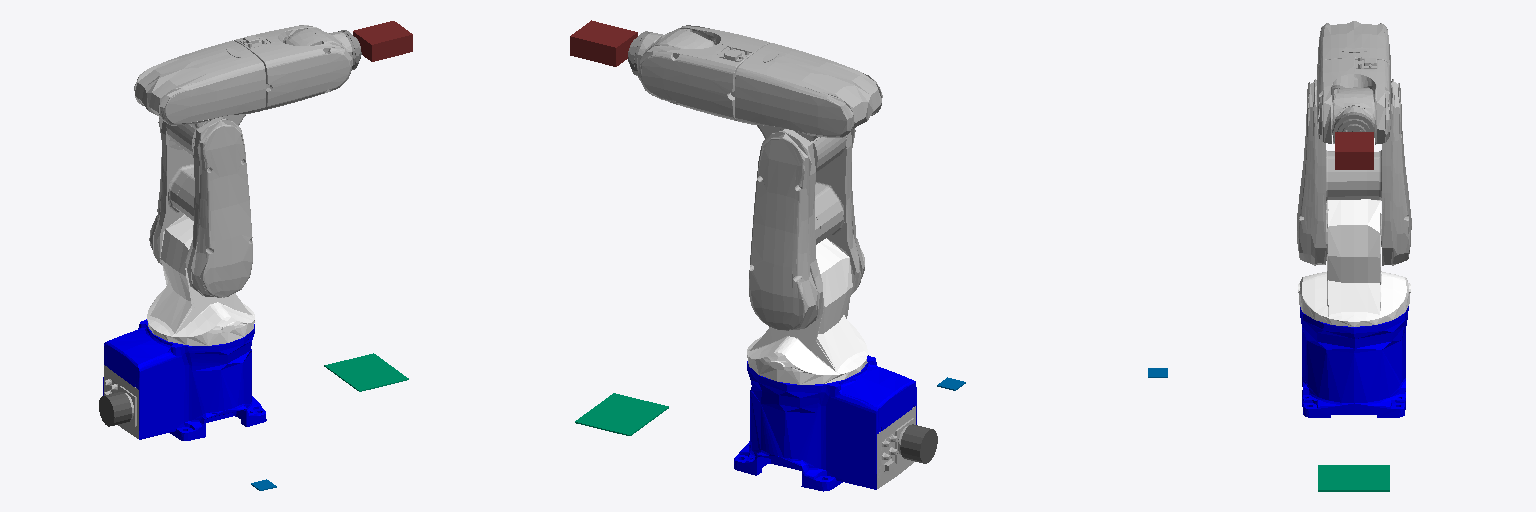
The robot description file, URDF, robot "vs6242":
<?xml version="1.0" encoding="UTF-8"?>
<robot name="vs6242">
	<gazebo>
		<plugin name="gazebo_ros_control" filename="libgazebo_ros_control.so">
			<robotNamespace>/vs6242</robotNamespace>
		</plugin>
	</gazebo>
	<link name="world"/>
	<joint name="joint_w" type="fixed">
		<parent link="world"/>
		<child link="base_link"/>
	</joint>
	<link name="base_link">
		<visual>
			<origin rpy="0 0 0" xyz="0 0 0"/>
			<geometry>
				<mesh filename="package://denso_robot_descriptions/vs6242_description/base_link.dae" scale="1 1 1"/>
			</geometry>
		</visual>
		<collision>
			<origin rpy="0 0 0" xyz="0 0 0"/>
			<geometry>
				<mesh filename="package://denso_robot_descriptions/vs6242_description/base_link.dae" scale="1 1 1"/>
			</geometry>
		</collision>
		<inertial>
			<mass value="1"/>
			<origin rpy="0.000000 0.000000 0.000000" xyz="0.000000 0.000000 0.000000"/>
			<inertia ixx="1" ixy="0" ixz="0" iyy="1" iyz="0" izz="1"/>
		</inertial>
	</link>
	<link name="J1">
		<visual>
			<origin rpy="0 0 0" xyz="0 0 0"/>
			<geometry>
				<mesh filename="package://denso_robot_descriptions/vs6242_description/J1.dae" scale="1 1 1"/>
			</geometry>
		</visual>
		<collision>
			<origin rpy="0 0 0" xyz="0 0 0"/>
			<geometry>
				<mesh filename="package://denso_robot_descriptions/vs6242_description/J1.dae" scale="1 1 1"/>
			</geometry>
		</collision>
		<inertial>
			<mass value="1"/>
			<origin rpy="0.000000 0.000000 0.000000" xyz="0.000000 0.000000 0.000000"/>
			<inertia ixx="1" ixy="0" ixz="0" iyy="1" iyz="0" izz="1"/>
		</inertial>
	</link>
	<joint name="joint_1" type="revolute">
		<parent link="base_link"/>
		<child link="J1"/>
		<origin rpy="0.000000 0.000000 0.000000" xyz="0.000000 0.000000 0.000000"/>
		<axis xyz="-0.000000 -0.000000 1.000000"/>
		<limit effort="1" lower="-2.792527" upper="2.792527" velocity="1"/>
		<dynamics damping="0" friction="0"/>
	</joint>
	<transmission name="trans_1">
		<type>transmission_interface/SimpleTransmission</type>
		<joint name="joint_1">
			<hardwareInterface>PositionJointInterface</hardwareInterface>
		</joint>
		<actuator name="motor_1">
			<hardwareInterface>PositionJointInterface</hardwareInterface>
			<mechanicalReduction>1</mechanicalReduction>
		</actuator>
	</transmission>
	<link name="J2">
		<visual>
			<origin rpy="0 0 0" xyz="0 0 0"/>
			<geometry>
				<mesh filename="package://denso_robot_descriptions/vs6242_description/J2.dae" scale="1 1 1"/>
			</geometry>
		</visual>
		<collision>
			<origin rpy="0 0 0" xyz="0 0 0"/>
			<geometry>
				<mesh filename="package://denso_robot_descriptions/vs6242_description/J2.dae" scale="1 1 1"/>
			</geometry>
		</collision>
		<inertial>
			<mass value="1"/>
			<origin rpy="0.000000 0.000000 0.000000" xyz="0.000000 0.000000 0.000000"/>
			<inertia ixx="1" ixy="0" ixz="0" iyy="1" iyz="0" izz="1"/>
		</inertial>
	</link>
	<joint name="joint_2" type="revolute">
		<parent link="J1"/>
		<child link="J2"/>
		<origin rpy="0.000000 0.000000 0.000000" xyz="0.000000 0.000000 0.280000"/>
		<axis xyz="-0.000000 1.000000 -0.000000"/>
		<limit effort="1" lower="-2.094395" upper="2.094395" velocity="1"/>
		<dynamics damping="0" friction="0"/>
	</joint>
	<transmission name="trans_2">
		<type>transmission_interface/SimpleTransmission</type>
		<joint name="joint_2">
			<hardwareInterface>PositionJointInterface</hardwareInterface>
		</joint>
		<actuator name="motor_2">
			<hardwareInterface>PositionJointInterface</hardwareInterface>
			<mechanicalReduction>1</mechanicalReduction>
		</actuator>
	</transmission>
	<link name="J3">
		<visual>
			<origin rpy="0 0 0" xyz="0 0 0"/>
			<geometry>
				<mesh filename="package://denso_robot_descriptions/vs6242_description/J3.dae" scale="1 1 1"/>
			</geometry>
		</visual>
		<collision>
			<origin rpy="0 0 0" xyz="0 0 0"/>
			<geometry>
				<mesh filename="package://denso_robot_descriptions/vs6242_description/J3.dae" scale="1 1 1"/>
			</geometry>
		</collision>
		<inertial>
			<mass value="1"/>
			<origin rpy="0.000000 0.000000 0.000000" xyz="0.000000 0.000000 0.000000"/>
			<inertia ixx="1" ixy="0" ixz="0" iyy="1" iyz="0" izz="1"/>
		</inertial>
	</link>
	<joint name="joint_3" type="revolute">
		<parent link="J2"/>
		<child link="J3"/>
		<origin rpy="0.000000 0.000000 0.000000" xyz="0.000000 0.000000 0.210000"/>
		<axis xyz="-0.000000 1.000000 -0.000000"/>
		<limit effort="1" lower="0.3316126" upper="2.792527" velocity="1"/>
		<dynamics damping="0" friction="0"/>
	</joint>
	<transmission name="trans_3">
		<type>transmission_interface/SimpleTransmission</type>
		<joint name="joint_3">
			<hardwareInterface>PositionJointInterface</hardwareInterface>
		</joint>
		<actuator name="motor_3">
			<hardwareInterface>PositionJointInterface</hardwareInterface>
			<mechanicalReduction>1</mechanicalReduction>
		</actuator>
	</transmission>
	<link name="J4">
		<visual>
			<origin rpy="0 0 0" xyz="0 0 0"/>
			<geometry>
				<mesh filename="package://denso_robot_descriptions/vs6242_description/J4.dae" scale="1 1 1"/>
			</geometry>
		</visual>
		<collision>
			<origin rpy="0 0 0" xyz="0 0 0"/>
			<geometry>
				<mesh filename="package://denso_robot_descriptions/vs6242_description/J4.dae" scale="1 1 1"/>
			</geometry>
		</collision>
		<inertial>
			<mass value="1"/>
			<origin rpy="0.000000 0.000000 0.000000" xyz="0.000000 0.000000 0.000000"/>
			<inertia ixx="1" ixy="0" ixz="0" iyy="1" iyz="0" izz="1"/>
		</inertial>
	</link>
	<joint name="joint_4" type="revolute">
		<parent link="J3"/>
		<child link="J4"/>
		<origin rpy="0.000000 0.000000 0.000000" xyz="-0.075000 0.000000 -0.490000"/>
		<axis xyz="-0.000000 -0.000000 1.000000"/>
		<limit effort="1" lower="-2.792527" upper="2.792527" velocity="1"/>
		<dynamics damping="0" friction="0"/>
	</joint>
	<transmission name="trans_4">
		<type>transmission_interface/SimpleTransmission</type>
		<joint name="joint_4">
			<hardwareInterface>PositionJointInterface</hardwareInterface>
		</joint>
		<actuator name="motor_4">
			<hardwareInterface>PositionJointInterface</hardwareInterface>
			<mechanicalReduction>1</mechanicalReduction>
		</actuator>
	</transmission>
	<link name="J5">
		<visual>
			<origin rpy="0 0 0" xyz="0 0 0"/>
			<geometry>
				<mesh filename="package://denso_robot_descriptions/vs6242_description/J5.dae" scale="1 1 1"/>
			</geometry>
		</visual>
		<collision>
			<origin rpy="0 0 0" xyz="0 0 0"/>
			<geometry>
				<mesh filename="package://denso_robot_descriptions/vs6242_description/J5.dae" scale="1 1 1"/>
			</geometry>
		</collision>
		<inertial>
			<mass value="1"/>
			<origin rpy="0.000000 0.000000 0.000000" xyz="0.000000 0.000000 0.000000"/>
			<inertia ixx="1" ixy="0" ixz="0" iyy="1" iyz="0" izz="1"/>
		</inertial>
	</link>
	<joint name="joint_5" type="revolute">
		<parent link="J4"/>
		<child link="J5"/>
		<origin rpy="0.000000 0.000000 0.000000" xyz="0.000000 0.000000 0.700000"/>
		<axis xyz="-0.000000 1.000000 -0.000000"/>
		<limit effort="1" lower="-2.094395" upper="2.094395" velocity="1"/>
		<dynamics damping="0" friction="0"/>
	</joint>
	<transmission name="trans_5">
		<type>transmission_interface/SimpleTransmission</type>
		<joint name="joint_5">
			<hardwareInterface>PositionJointInterface</hardwareInterface>
		</joint>
		<actuator name="motor_5">
			<hardwareInterface>PositionJointInterface</hardwareInterface>
			<mechanicalReduction>1</mechanicalReduction>
		</actuator>
	</transmission>
	<link name="J6">
		<visual>
			<origin rpy="0 0 0" xyz="0 0 0"/>
			<geometry>
				<mesh filename="package://denso_robot_descriptions/vs6242_description/J6.dae" scale="1 1 1"/>
			</geometry>
		</visual>
		<collision>
			<origin rpy="0 0 0" xyz="0 0 0"/>
			<geometry>
				<mesh filename="package://denso_robot_descriptions/vs6242_description/J6.dae" scale="1 1 1"/>
			</geometry>
		</collision>
		<inertial>
			<mass value="1"/>
			<origin rpy="0.000000 0.000000 0.000000" xyz="0.000000 0.000000 0.000000"/>
			<inertia ixx="1" ixy="0" ixz="0" iyy="1" iyz="0" izz="1"/>
		</inertial>
	</link>
	<joint name="joint_6" type="revolute">
		<parent link="J5"/>
		<child link="J6"/>
		<origin rpy="0.000000 0.000000 0.000000" xyz="0.000000 0.000000 0.070000"/>
		<axis xyz="-0.000000 -0.000000 1.000000"/>
		<limit effort="1" lower="-6.283185" upper="6.283185" velocity="1"/>
		<dynamics damping="0" friction="0"/>
	</joint>
	<transmission name="trans_6">
		<type>transmission_interface/SimpleTransmission</type>
		<joint name="joint_6">
			<hardwareInterface>PositionJointInterface</hardwareInterface>
		</joint>
		<actuator name="motor_6">
			<hardwareInterface>PositionJointInterface</hardwareInterface>
			<mechanicalReduction>1</mechanicalReduction>
		</actuator>
	</transmission>

	<!-- camera_link -->
	<link name="camera_link">
		<visual>
			<origin xyz="0 0 0" rpy="0 0 0"/>
			<geometry>
				<box size="0.075 0.060 0.030"/>
			</geometry>
			<material name="gray">
            	<color rgba="0.5 0.2 0.2 1.0"/>
        	</material>
		</visual>

		<collision>
			<origin xyz="0 0 0" rpy="0 0 0"/>
			<geometry>
				<box size="0.075 0.060 0.030"/>
			</geometry>
		</collision>

		<inertial>
			<mass value="1e-5" />
			<origin xyz="0 0 0" rpy="0 0 0"/>
			<inertia ixx="1e-6" ixy="0" ixz="0" iyy="1e-6" iyz="0" izz="1e-6" />
		</inertial>
	</link>

	<joint name="camera_joint" type="fixed">
		<axis xyz="1 0 0" />
		<origin xyz="0 0 0.05" rpy="0 -1.5707963 0"/>
		<!-- <origin xyz="0 0 0.05" rpy="-1.5707963 0 -1.5707963"/> -->
		<parent link="J6"/>
		<child link="camera_link"/>
	</joint>

	<!-- generate an optical frame http://www.ros.org/reps/rep-0103.html#suffix-frames
      so that ros and opencv can operate on the camera frame correctly -->
	<joint name="camera_optical_joint" type="fixed">
		<!-- these values have to be these values otherwise the gazebo camera image
			won't be aligned properly with the frame it is supposedly originating from -->
		<origin xyz="0 0 0" rpy="-1.5707963 0 -1.5707963"/>
		<!-- <origin xyz="0 0 0" rpy="0 0 0"/> -->
		<parent link="camera_link"/>
		<child link="camera_link_optical"/>
	</joint>

	<link name="camera_link_optical">
	</link>

    <gazebo reference="camera_link">
      <sensor type="camera" name="basler">
		<always_on>1</always_on>
        <update_rate>30.0</update_rate>
		<visualize>true</visualize>
        <camera>
          	<horizontal_fov>0.70288959</horizontal_fov>
			<image>
				<width>2592</width>
				<height>1944</height>
				<format>R8G8B8</format>
			</image>
			<save enabled="false">
				<path>/tmp/camera_save_tutorial</path>
			</save>
          	<clip>
				<near>0.001</near>
				<far>10</far>
          	</clip>
			<noise>
				<type>gaussian</type>
				<!-- Noise is sampled independently per pixel on each frame.
					That pixel's noise value is added to each of its color
					channels, which at that point lie in the range [0,1]. -->
				<mean>0.0</mean>
				<stddev>0.007</stddev>
        	</noise>
        </camera>

        <plugin name="camera_camera_controller" filename="libgazebo_ros_camera.so">
			<alwaysOn>true</alwaysOn>
			<updateRate>30.0</updateRate>
			<cameraName>/camera</cameraName>
			<imageTopicName>image_raw</imageTopicName>
			<cameraInfoTopicName>camera_info</cameraInfoTopicName>
			<frameName>camera_link</frameName>
			<hackBaseline>0.0</hackBaseline>
			<distortionK1>0.0</distortionK1>
			<distortionK2>0.0</distortionK2>
			<distortionK3>0.0</distortionK3>
			<distortionT1>0.0</distortionT1>
			<distortionT2>0.0</distortionT2>
			<CxPrime>1296</CxPrime>
			<Cx>1296</Cx>
			<Cy>972</Cy>
			<focalLength>0.3</focalLength>
        </plugin>
      </sensor>
    </gazebo>

	<!-- Pattern -->
	<link name="pattern">
		<visual>
			<origin rpy="0 0 0" xyz="0 0 0" />
			<geometry>
				<mesh filename="package://denso_robot_descriptions/vs6242_description/pattern.dae" scale="1 1 1" />
			</geometry>
		</visual>
		<collision>
			<origin rpy="0 0 0" xyz="0 0 0" />
			<geometry>
				<box size="0.22 0.18 0.002"/> 
			</geometry>
		</collision>
		<inertial>
			<mass value="1" />
			<origin rpy="0.000000 0.000000 0.000000" xyz="0.000000 0.000000 0.000000" />
			<inertia ixx="1" ixy="0" ixz="0" iyy="1" iyz="0" izz="1" />
		</inertial>
	</link>

	<joint name="joint_pattern" type="fixed">
		<parent link="world" />
		<child link="pattern" />
		<origin rpy="0.000000 0.000000 1.5707963" xyz="0.300000 0.000000 0.001" />
	</joint>

	<!-- Add emissive light in pattern self -->
	<gazebo reference="pattern">
		<visual>
			<material>
				<emissive>0.5 0.5 0.5 0.5</emissive>
				<shader type='vertex'>
					<normal_map>__default__</normal_map>
				</shader>
			</material>
		</visual>
	</gazebo>

	<!-- Diamond Marker -->
	<link name="pcb">
		<visual>
			<origin rpy="0 0 0" xyz="0 0 0" />
			<geometry>
				<mesh filename="package://denso_robot_descriptions/vs6242_description/pcb.dae" scale="0.4 0.4 0.4" />
			</geometry>
		</visual>
		<collision>
			<origin rpy="0 0 0" xyz="0 0 0" />
			<geometry>
				<box size="0.03 0.03 0.002"/> 
			</geometry>
		</collision>
		<inertial>
			<mass value="1" />
			<origin rpy="0.000000 0.000000 0.000000" xyz="0.000000 0.000000 0.000000" />
			<inertia ixx="1" ixy="0" ixz="0" iyy="1" iyz="0" izz="1" />
		</inertial>
	</link>

	<link name="marker">
		<visual>
			<origin rpy="0 0 0" xyz="0 0 0" />
			<geometry>
				<mesh filename="package://denso_robot_descriptions/vs6242_description/diamond.dae" scale="1 1 1" />
			</geometry>
		</visual>
		<collision>
			<origin rpy="0 0 0" xyz="0 0 0" />
			<geometry>
				<box size="0.03 0.03 0.002"/> 
			</geometry>
		</collision>
		<inertial>
			<mass value="1" />
			<origin rpy="0.000000 0.000000 0.000000" xyz="0.000000 0.000000 0.000000" />
			<inertia ixx="1" ixy="0" ixz="0" iyy="1" iyz="0" izz="1" />
		</inertial>
	</link>

	<joint name="joint_pcb" type="fixed">
		<parent link="world" />
		<child link="pcb" />
		<origin rpy="0.000000 0.000000 1.5707963" xyz="0.000000 -0.350000 0.001" />
	</joint>

	<!-- <joint name="joint_marker" type="fixed">
		<parent link="pcb" />
		<child link="marker" />
		<origin rpy="0.000000 0.000000 1.5707963" xyz="0.05000 0.060000 0.01" />
	</joint> -->

	<joint name="joint_marker" type="fixed">
		<parent link="world" />
		<child link="marker" />
		<origin rpy="0.000000 0.000000 1.5707963" xyz="-0.06000 -0.30000 0.011" />
	</joint>

	<!-- Add emissive light in pattern self -->
	<gazebo reference="marker">
		<visual>
			<material>
				<emissive>0.5 0.5 0.5 0.5</emissive>
				<shader type='vertex'>
					<normal_map>__default__</normal_map>
				</shader>
			</material>
		</visual>
	</gazebo>
</robot>

--- What the picture shows (computed from the rendered views, not written in the file) ---
Views: 3 orthographic renders of the robot side by side, from view 1: azimuth 30°, elevation 25°; view 2: azimuth 150°, elevation 25°; view 3: azimuth 270°, elevation 25°.
Model vs6242 with 13 links and 12 joints (6 revolute, 6 fixed), rooted at world, posed joints at zero except 1 at the middle of their limits (joint_3 = 1.56).
Links seen in each view (by area): view 1: base_link, J2, J3, J1, J4, pattern, camera_link, J5; view 2: base_link, J2, J3, J1, J4, pattern, camera_link, J5; view 3: J2, base_link, J1, J4, J3, pattern, J5, camera_link.
Boxes of the visible links, <box> form: base_link: <box>99,319,266,440</box>; J2: <box>149,117,252,297</box>; J3: <box>134,40,265,155</box>; J1: <box>147,214,254,345</box>; J4: <box>234,25,352,109</box>; pattern: <box>324,353,408,391</box>; camera_link: <box>353,21,412,61</box>; J5: <box>285,28,359,70</box>; base_link: <box>734,355,937,491</box>; J2: <box>749,128,864,330</box>; J3: <box>735,43,882,172</box>; J1: <box>747,238,867,384</box>; J4: <box>638,25,769,120</box>; pattern: <box>575,393,668,435</box>; camera_link: <box>570,20,637,66</box>; J5: <box>629,29,714,75</box>; J2: <box>1297,79,1411,265</box>; base_link: <box>1300,306,1408,417</box>; J1: <box>1298,199,1410,326</box>; J4: <box>1317,56,1390,144</box>; J3: <box>1317,21,1390,74</box>; pattern: <box>1318,465,1389,491</box>; J5: <box>1332,87,1374,143</box>; camera_link: <box>1335,132,1373,169</box>.
Size in the robot's own frame: 0.5511 by 0.4029 by 0.6164 metres.
9 mesh visuals loaded from 10 distinct referenced files (9 Collada DAE); not drawn: 1 (reference not matched to a file when rendering).
